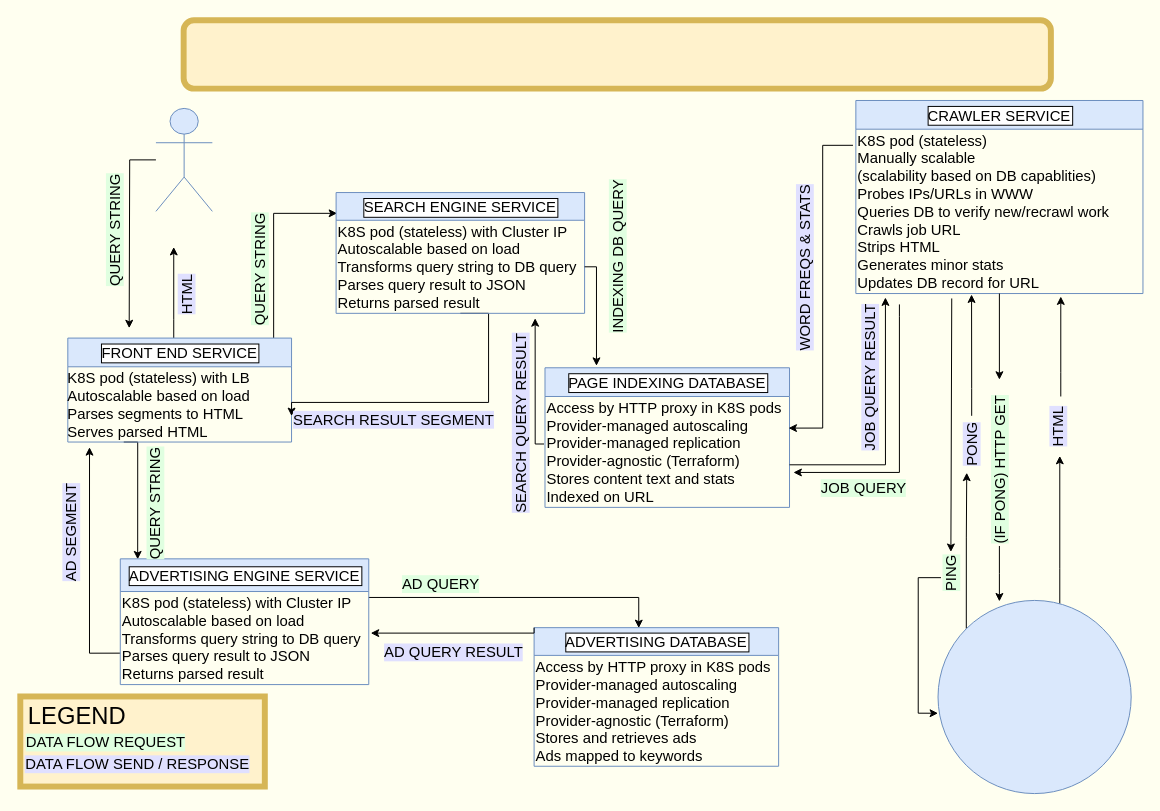
The diagram is 1160 pixels wide and 811 high, and some of its shapes have lost their labels. Here are the shapes that lost their labels. From the top down, the centre of each, then its label:
At point (616, 54): "QSE architecture and data flow".
At point (183, 159): "USER".
At point (1034, 696): "WORLD WIDE WEB".
